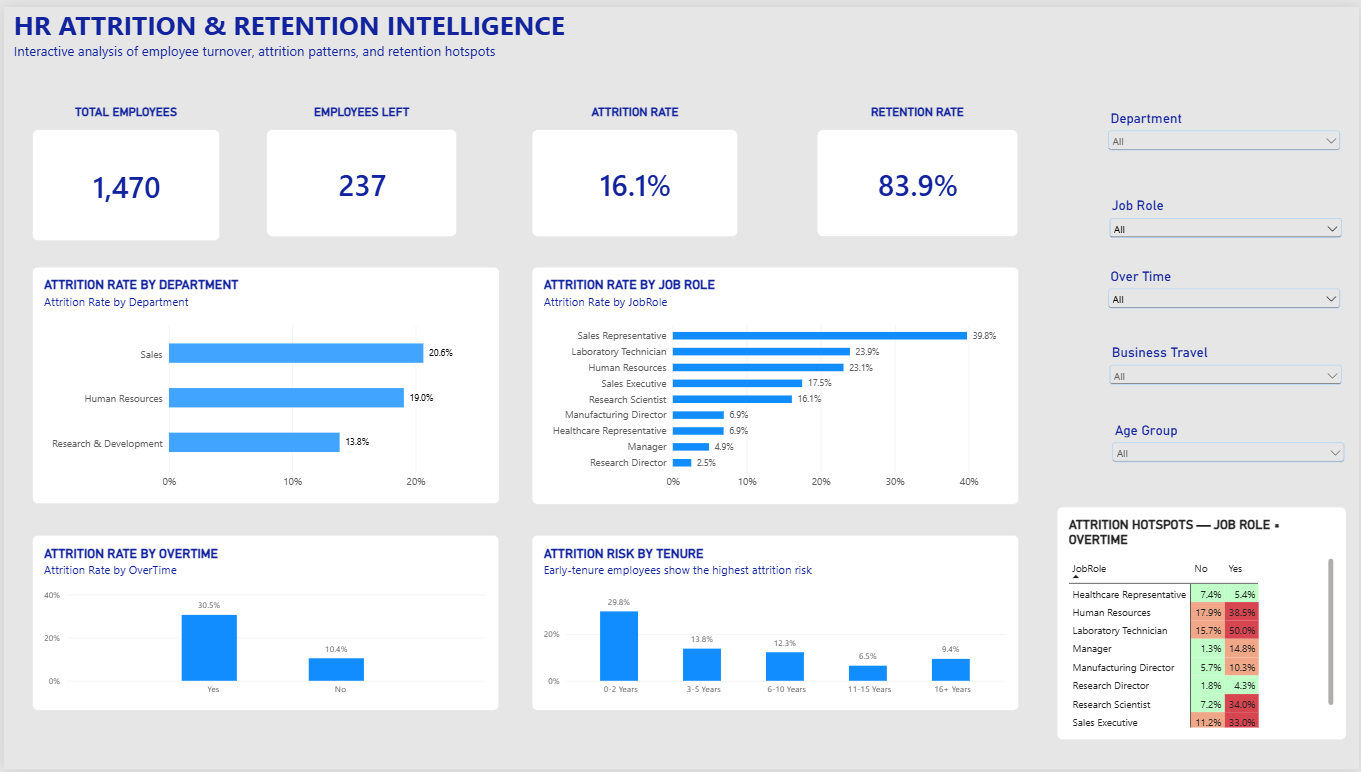

The page's visual inventory and layout, read from the dashboard file:
{"tool":"powerbi","page":{"name":"Executive Overview","canvas":[1920,1080],"ordinal":0},"visuals":[{"type":"cardVisual","title":"TOTAL EMPLOYEES","fields":{"Data":["HR_Employee_Attrition.Total Employees Card"]},"box":[40,138,266,194],"z":0},{"type":"cardVisual","title":"EMPLOYEES LEFT","fields":{"Data":["HR_Employee_Attrition.Employees Left"]},"box":[372,138,270,187.5],"z":1000},{"type":"cardVisual","title":"ATTRITION RATE","fields":{"Data":["HR_Employee_Attrition.Attrition Rate"]},"box":[748,138,292.5,187.5],"z":2000},{"type":"cardVisual","title":"RETENTION RATE","fields":{"Data":["HR_Employee_Attrition.Retention Rate"]},"box":[1152,138,285,187.5],"z":3000},{"type":"clusteredBarChart","title":"ATTRITION RATE BY DEPARTMENT","fields":{"Category":["HR_Employee_Attrition.Department"],"Y":["HR_Employee_Attrition.Attrition Rate"]},"box":[40,367.5,662,336],"z":4000},{"type":"clusteredBarChart","title":"ATTRITION RATE BY JOB ROLE","fields":{"Category":["HR_Employee_Attrition.JobRole"],"Y":["HR_Employee_Attrition.Attrition Rate"]},"box":[747.5,367.5,690,336.7],"z":5000},{"type":"clusteredColumnChart","title":"ATTRITION RATE BY OVERTIME","fields":{"Category":["HR_Employee_Attrition.OverTime"],"Y":["HR_Employee_Attrition.Attrition Rate"]},"box":[40,747.5,661.2,248.8],"z":6000},{"type":"clusteredColumnChart","title":"ATTRITION RISK BY TENURE ","fields":{"Category":["HR_Employee_Attrition.Experience Group"],"Y":["HR_Employee_Attrition.Attrition Rate"]},"box":[747.5,747.5,690,248.8],"z":7000},{"type":"pivotTable","title":"ATTRITION HOTSPOTS — JOB ROLE × OVERTIME","fields":{"Rows":["HR_Employee_Attrition.JobRole"],"Columns":["HR_Employee_Attrition.OverTime"],"Values":["HR_Employee_Attrition.Attrition Rate"]},"box":[1492.5,707.5,410,330],"z":8000},{"type":"slicer","fields":{"Values":["HR_Employee_Attrition.Department"]},"box":[1560,145,338.6,61.4],"z":9000},{"type":"slicer","fields":{"Values":["HR_Employee_Attrition.JobRole"]},"box":[1562.5,270,338.6,61.4],"z":10000},{"type":"slicer","fields":{"Values":["HR_Employee_Attrition.OverTime"]},"box":[1560,370,338.6,61.4],"z":11000},{"type":"slicer","fields":{"Values":["HR_Employee_Attrition.Age Group"]},"box":[1565,587.5,338.6,61.4],"z":12000},{"type":"slicer","fields":{"Values":["HR_Employee_Attrition.BusinessTravel"]},"box":[1562.5,477.5,338.6,61.4],"z":13000},{"type":"textbox","box":[14,0,1326,86],"z":14000}]}

Visuals, with their boxes in screenshot pixels (x1, y1, x2, y2), scaled from the page's 1920x1080 canvas onto the 1361x772 screenshot:
"TOTAL EMPLOYEES" cardVisual: left=28, top=99, right=217, bottom=237
"EMPLOYEES LEFT" cardVisual: left=264, top=99, right=455, bottom=233
"ATTRITION RATE" cardVisual: left=530, top=99, right=738, bottom=233
"RETENTION RATE" cardVisual: left=817, top=99, right=1019, bottom=233
"ATTRITION RATE BY DEPARTMENT" clusteredBarChart: left=28, top=263, right=498, bottom=503
"ATTRITION RATE BY JOB ROLE" clusteredBarChart: left=530, top=263, right=1019, bottom=503
"ATTRITION RATE BY OVERTIME" clusteredColumnChart: left=28, top=534, right=497, bottom=712
"ATTRITION RISK BY TENURE " clusteredColumnChart: left=530, top=534, right=1019, bottom=712
"ATTRITION HOTSPOTS — JOB ROLE × OVERTIME" pivotTable: left=1058, top=506, right=1349, bottom=742
slicer - HR_Employee_Attrition.Department: left=1106, top=104, right=1346, bottom=148
slicer - HR_Employee_Attrition.JobRole: left=1108, top=193, right=1348, bottom=237
slicer - HR_Employee_Attrition.OverTime: left=1106, top=264, right=1346, bottom=308
slicer - HR_Employee_Attrition.Age Group: left=1109, top=420, right=1349, bottom=464
slicer - HR_Employee_Attrition.BusinessTravel: left=1108, top=341, right=1348, bottom=385
textbox: left=10, top=0, right=950, bottom=61
